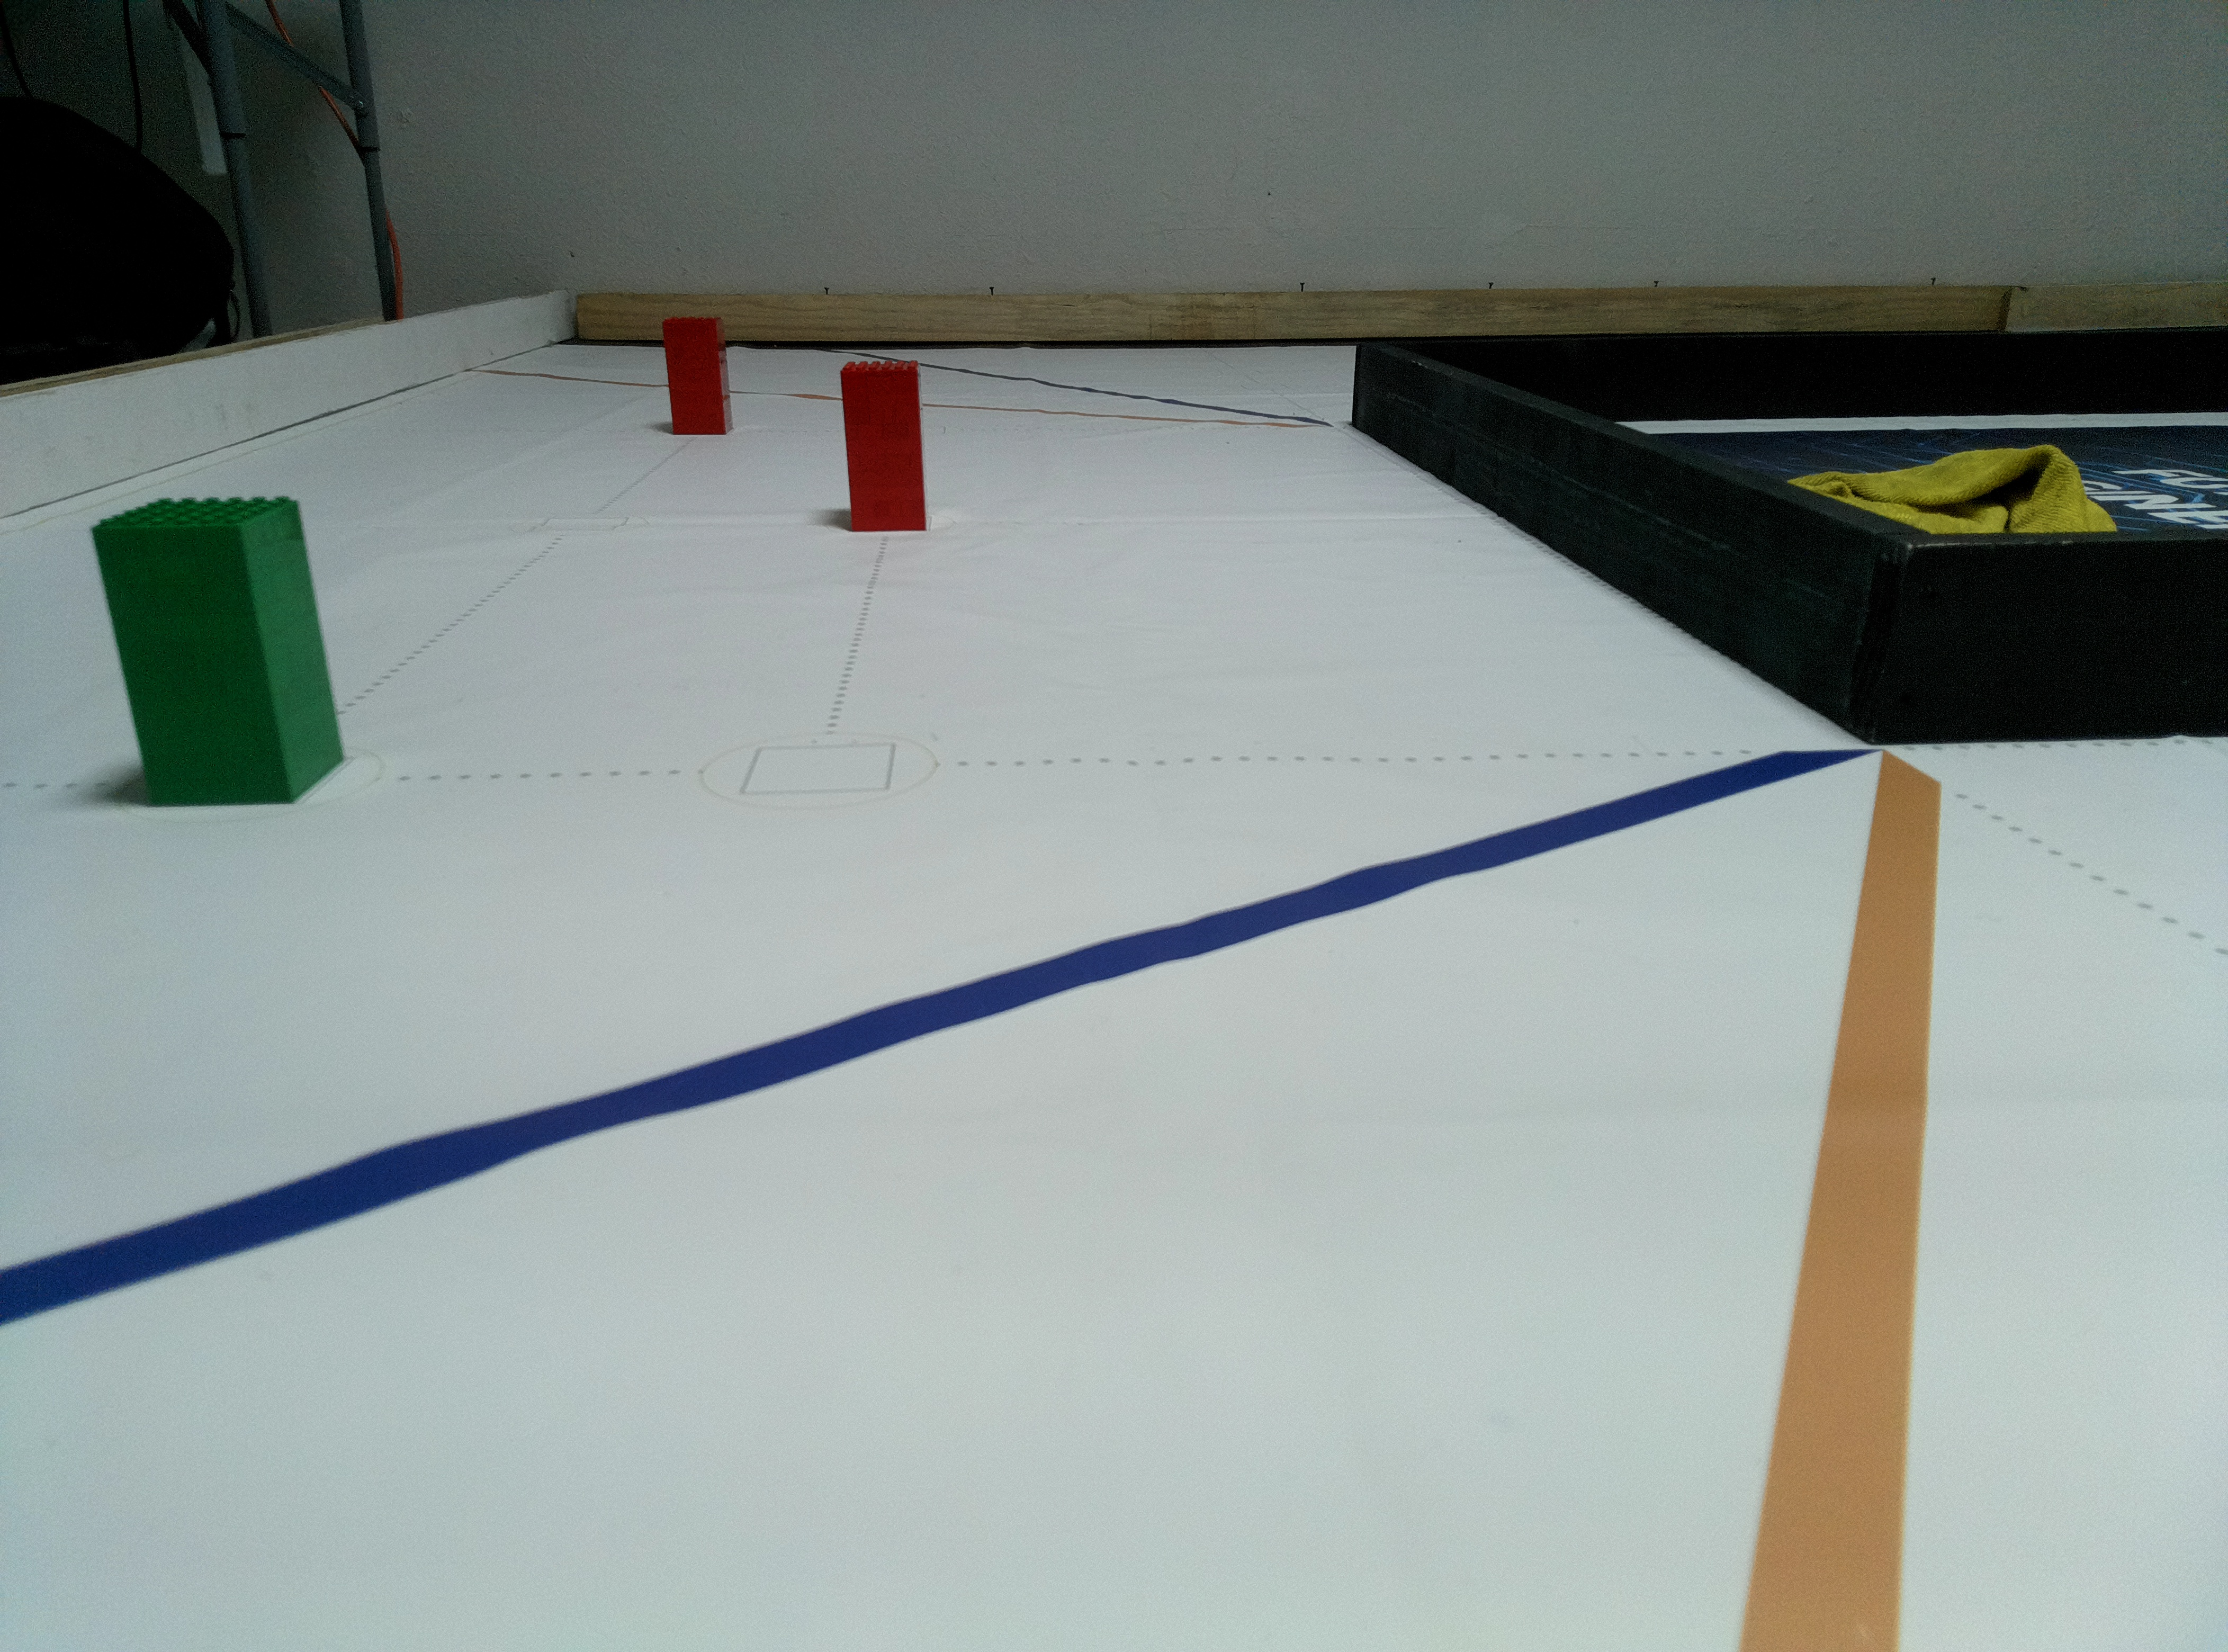greenbox: (88, 495, 349, 810)
redbox: (838, 359, 932, 534), (658, 318, 739, 437)
